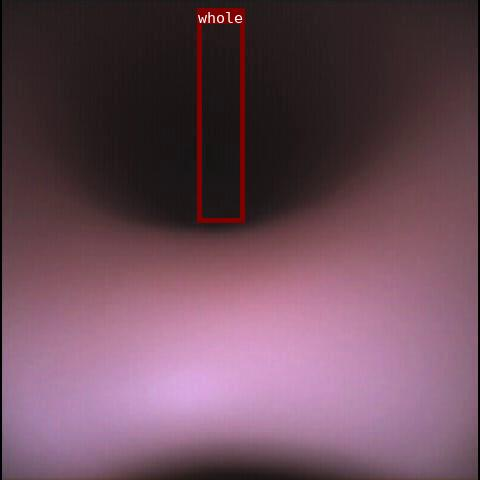whole: (197, 8, 244, 222)
